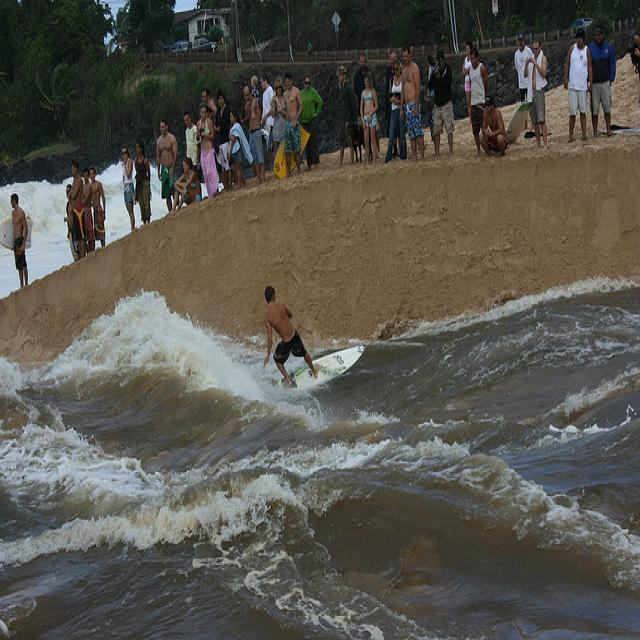Vehicle: (192, 38, 218, 52), (169, 41, 189, 52)
